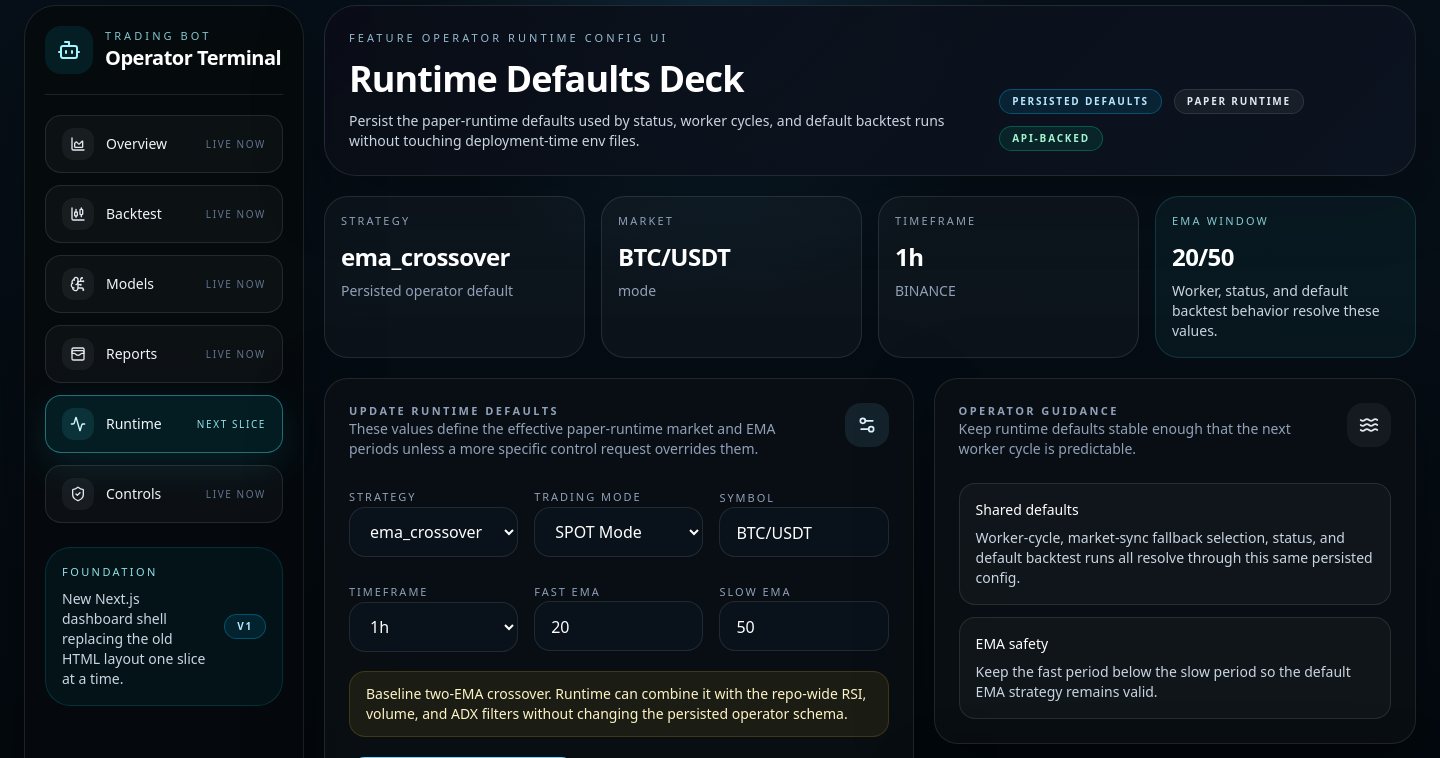
Test: hydrates and updates runtime defaults
Replace the text in the field showing "BTC/USDT" with "ETH/USDT" at (804, 532), box [719, 508, 889, 558]
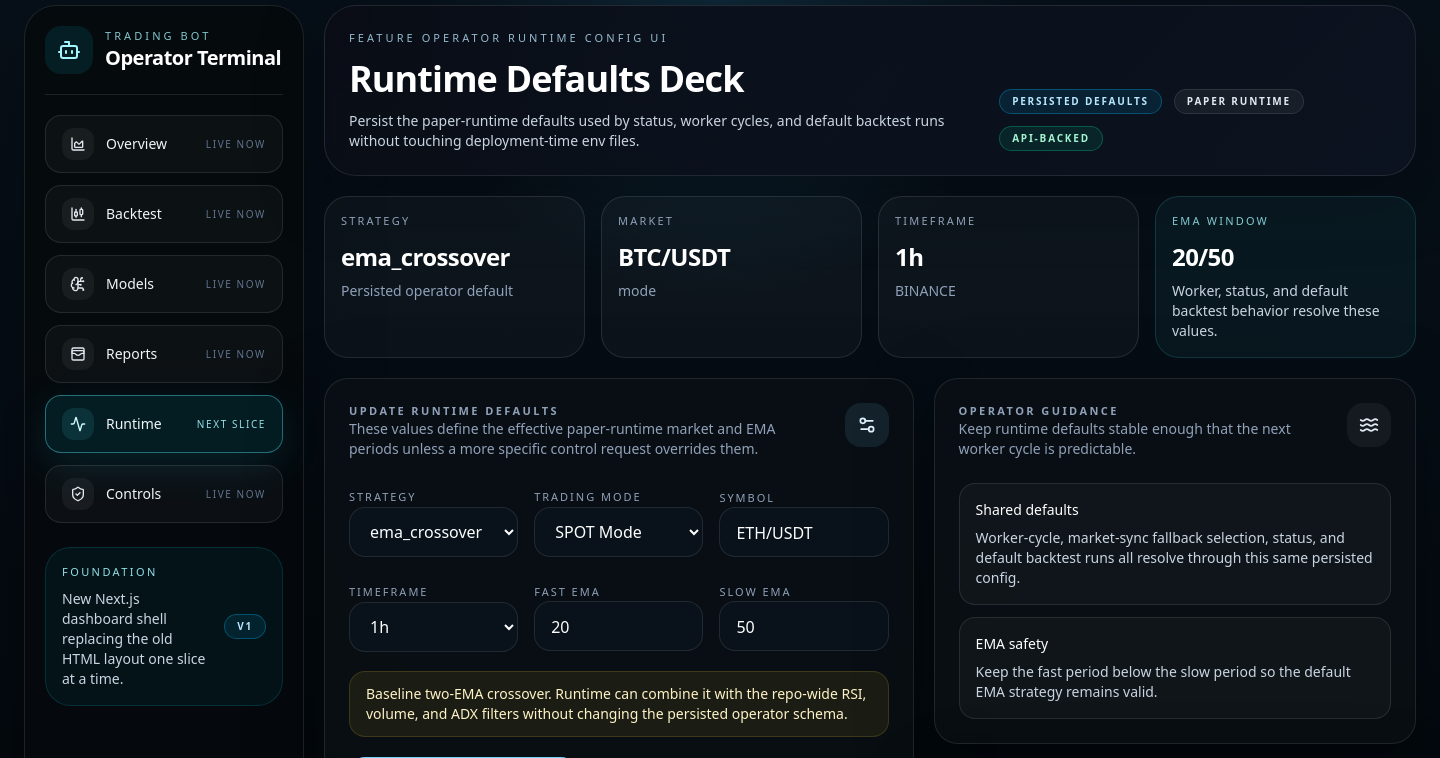
Select "4h" in the dropdown showing "1h" at (434, 626), box [349, 602, 518, 652]
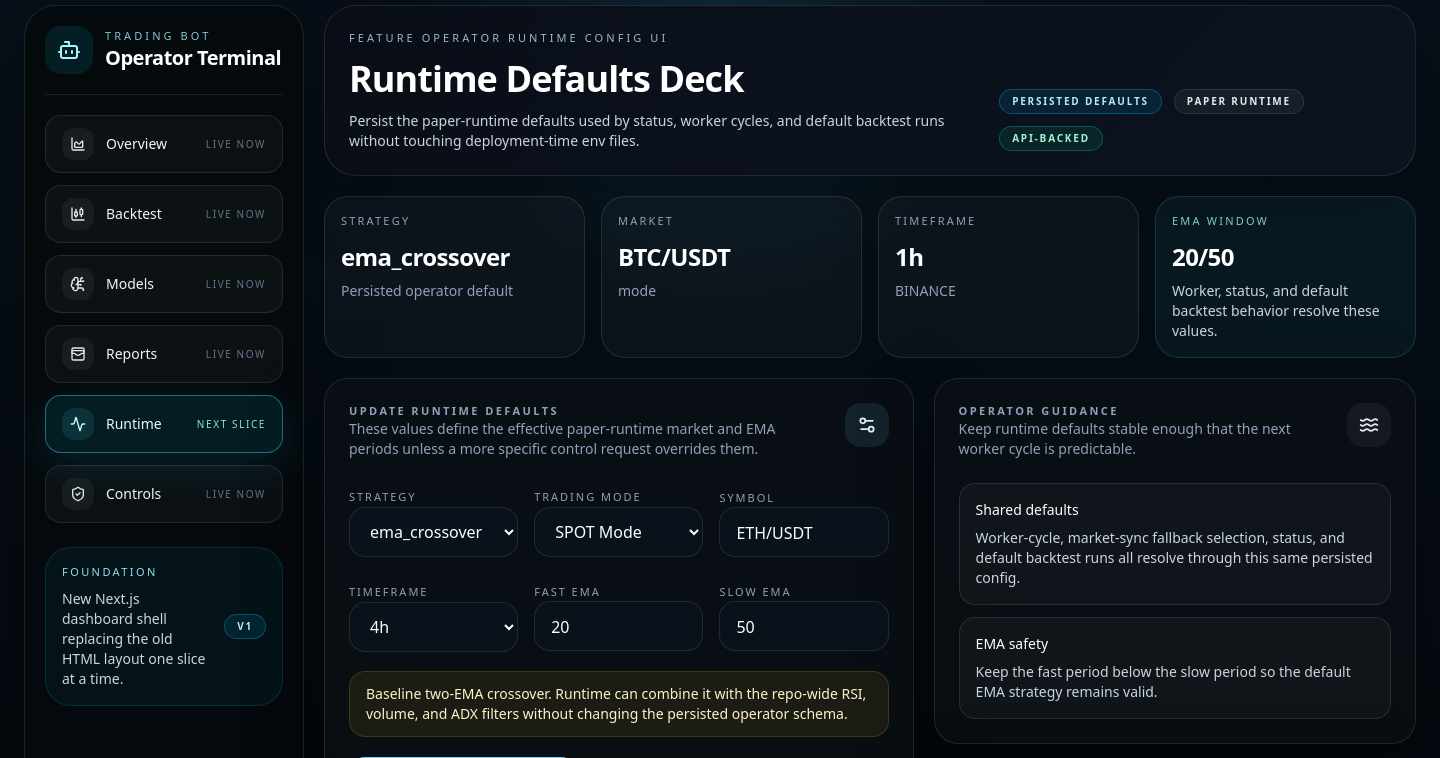
Replace the text in the number field showing "20" with "12" at (619, 626), box [534, 602, 703, 652]
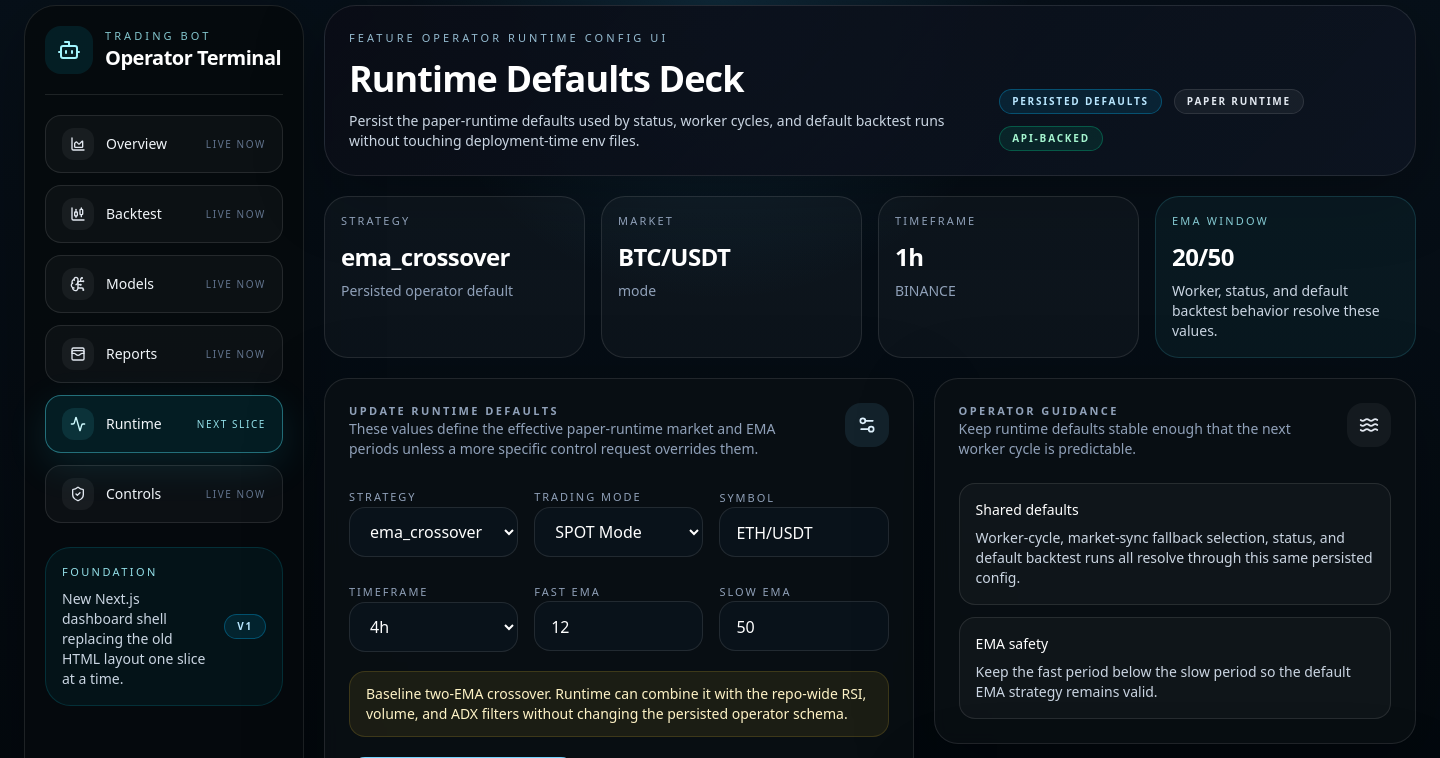
Replace the text in the number field showing "50" with "26" at (804, 626), box [719, 602, 889, 652]
(page scrolled)
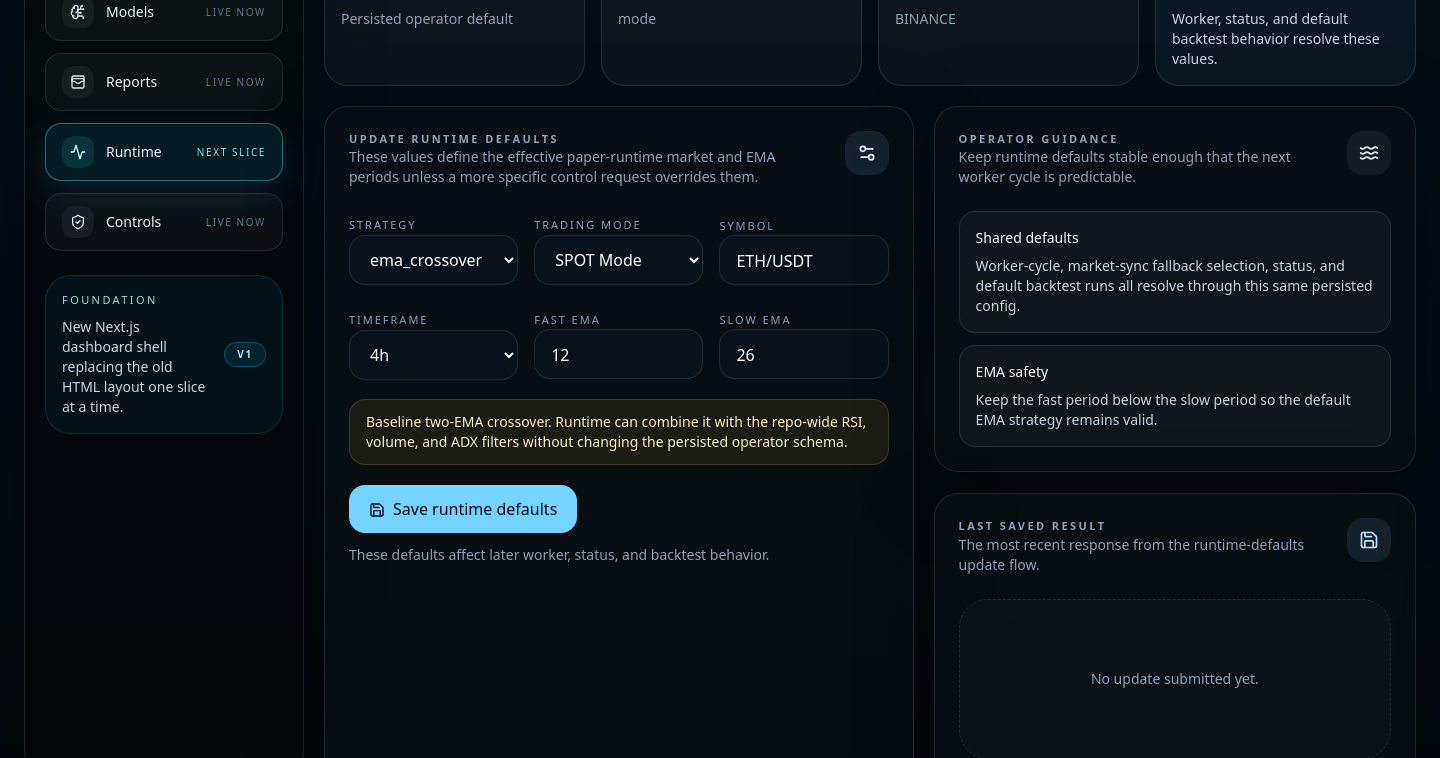
Click the button "Save runtime defaults" at (463, 510), box [349, 486, 577, 534]
(page scrolled)
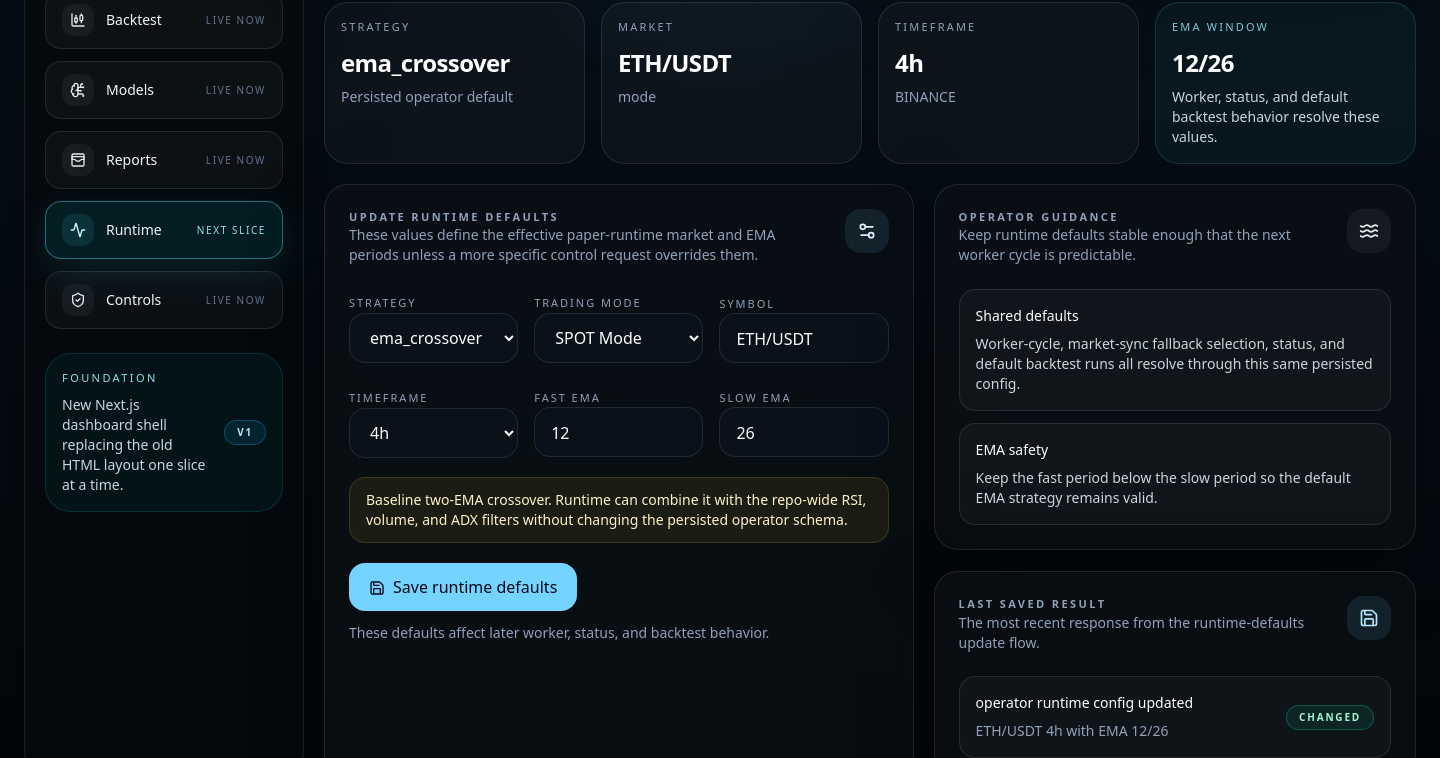
Expected: the text "operator runtime config updated" is shown, [976, 693, 1193, 713]
Expected: the text "Changed" is shown, [1286, 704, 1374, 730]
